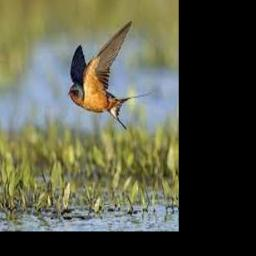Swallow: (68, 21, 151, 130)
